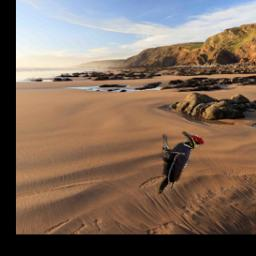Woodpecker: (158, 132, 205, 195)
